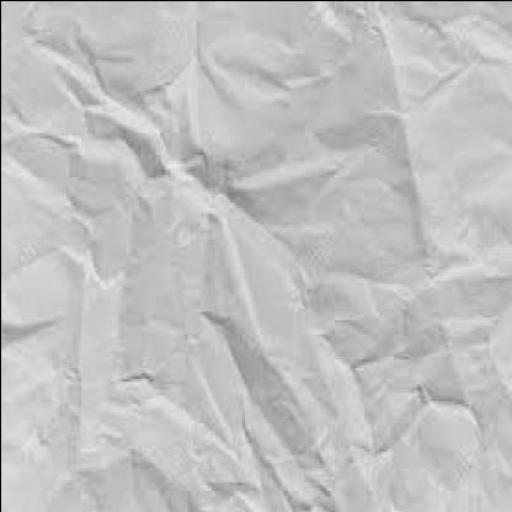paper: (1, 2, 511, 510)
